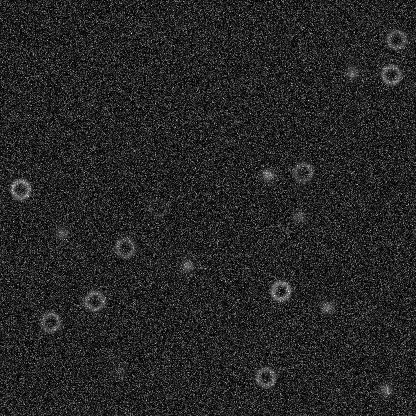Ring: (112, 235, 136, 259), (253, 365, 277, 389), (82, 288, 106, 312), (290, 160, 314, 184), (145, 195, 169, 219), (384, 27, 408, 51), (379, 62, 403, 86), (38, 310, 62, 334), (268, 278, 292, 302), (8, 177, 32, 201)
Spot: (259, 166, 275, 182), (53, 224, 69, 240), (290, 209, 306, 225), (343, 64, 359, 80), (110, 362, 126, 378), (319, 299, 335, 315), (377, 381, 393, 397), (179, 257, 195, 273)
